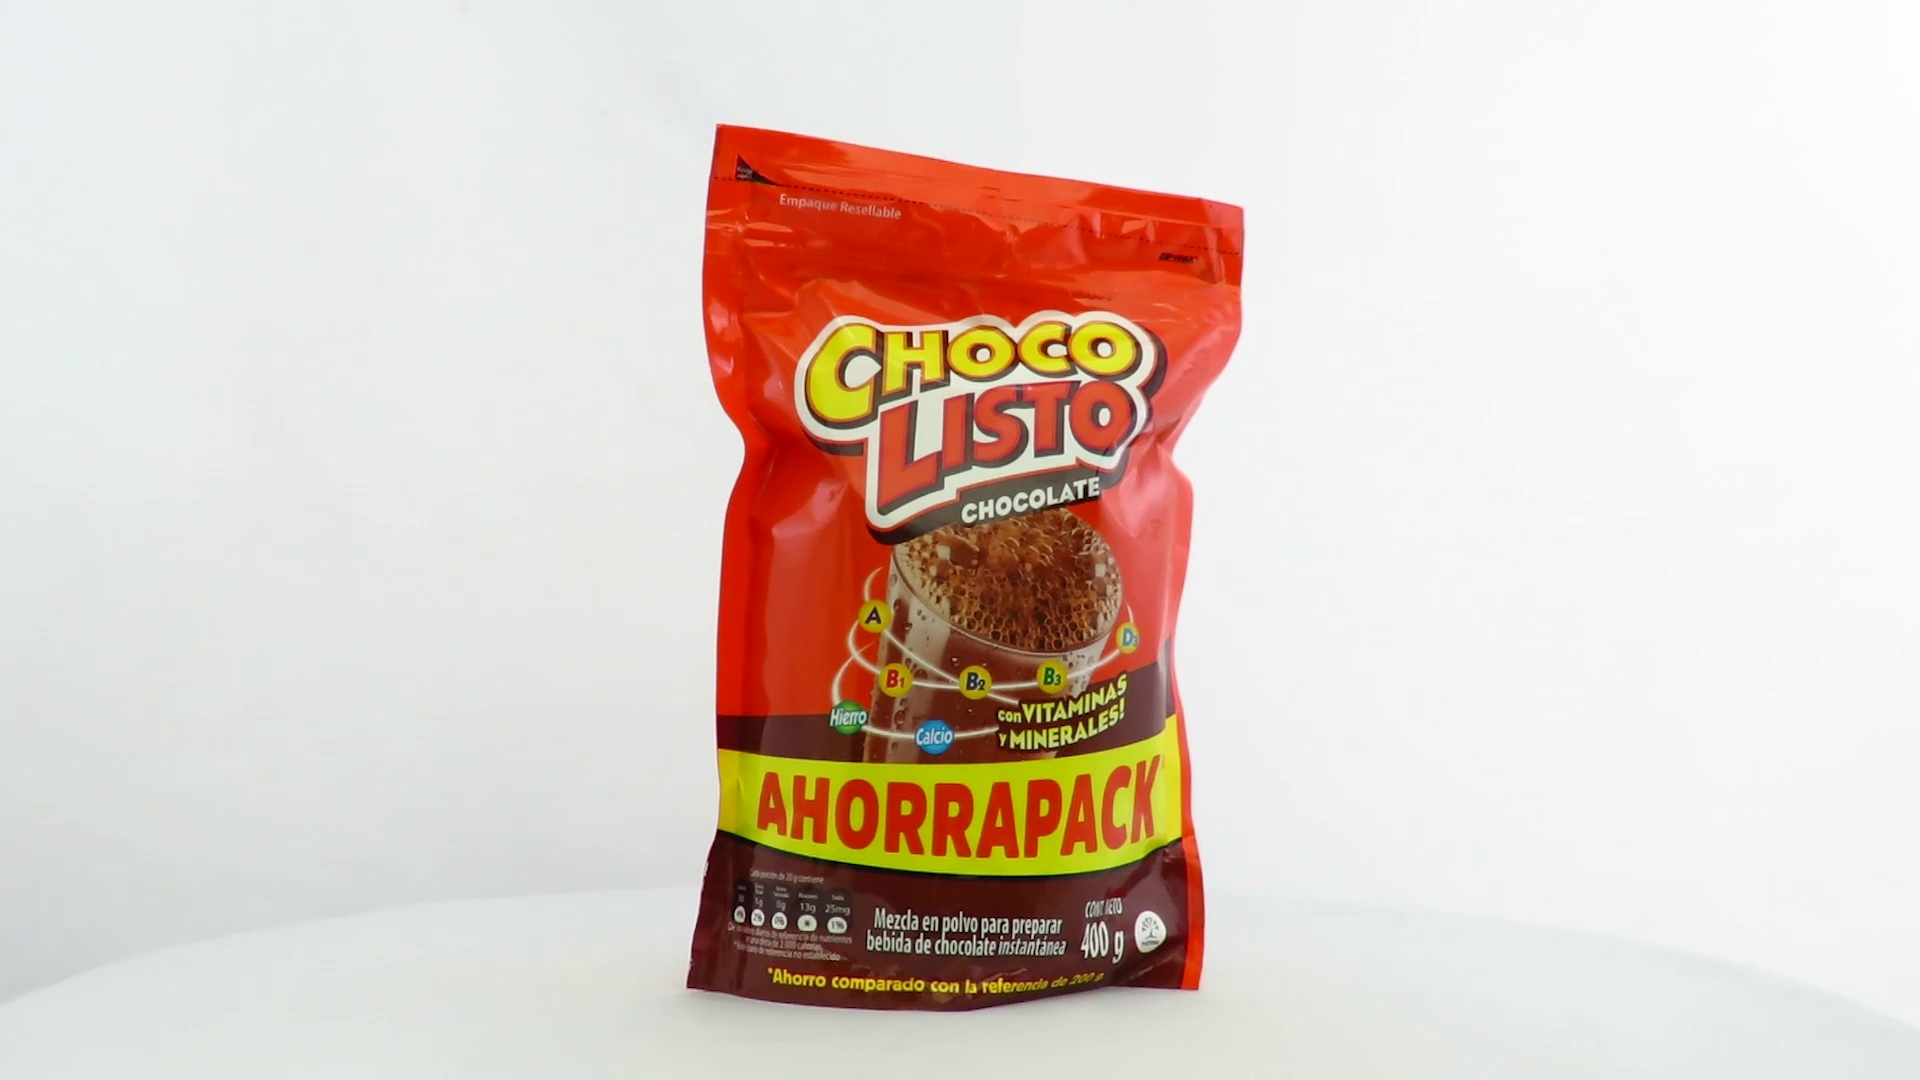COL0170103DYP40000: (680, 117, 1251, 1018)
